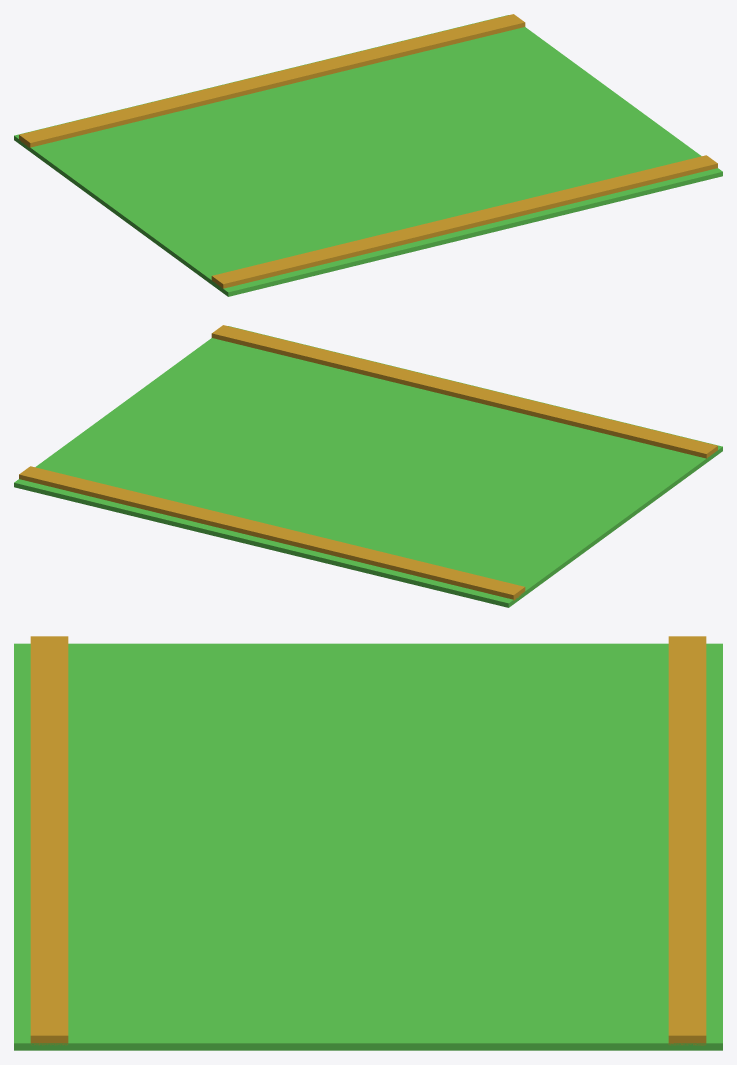
Rendered from marker.exit_zone.glb.
3 renders of one model, top to bottom at view 1: azimuth 30°, elevation 25°; view 2: azimuth 150°, elevation 25°; view 3: azimuth 270°, elevation 25°, orthographic. The views are drawn at different scales.
Parts seen in each view (by area): view 1: exit_floor, exit_bar_a, exit_bar_b; view 2: exit_floor, exit_bar_a, exit_bar_b; view 3: exit_floor, exit_bar_a, exit_bar_b.
Boxes of the visible parts, x1,y1,x2,y2 form: exit_floor: (14,15,722,296); exit_bar_a: (19,14,525,148); exit_bar_b: (211,155,717,288); exit_floor: (14,326,722,607); exit_bar_a: (19,466,525,600); exit_bar_b: (211,325,717,458); exit_floor: (14,643,722,1050); exit_bar_a: (668,636,706,1045); exit_bar_b: (30,636,68,1045).
Bounding box in the file's own units: 4 × 0.07 × 3.
